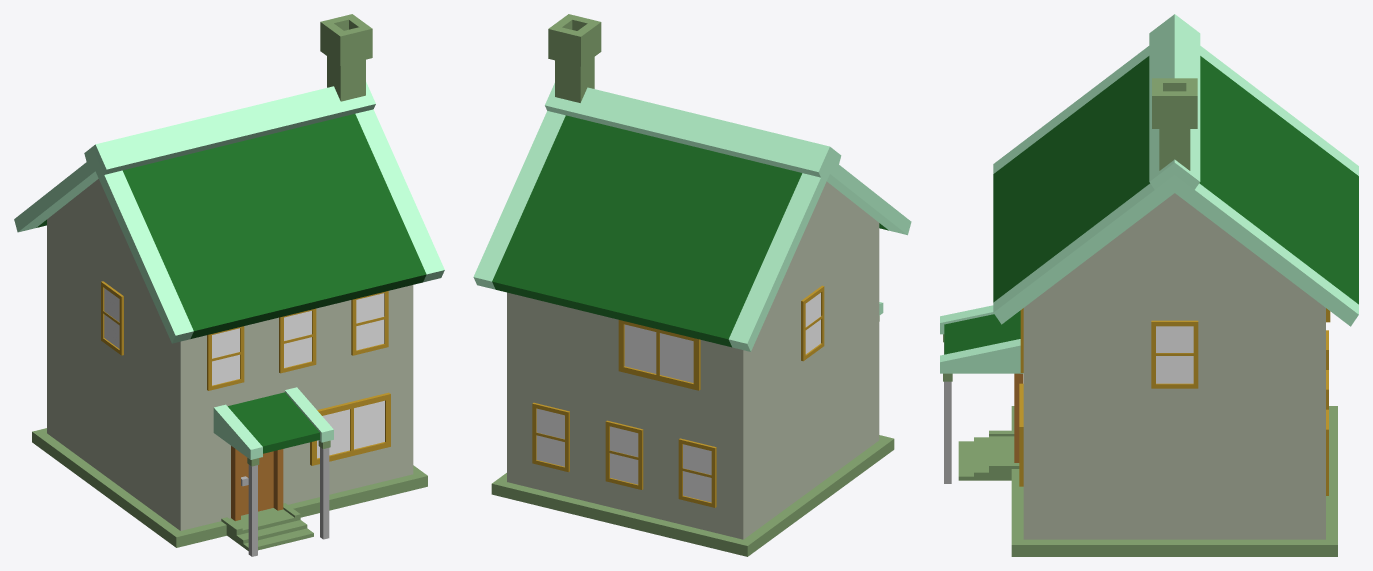
The model's file is Building_House_1.FBX.
3 renders of one model, left to right at view 1: azimuth 30°, elevation 25°; view 2: azimuth 150°, elevation 25°; view 3: azimuth 270°, elevation 25°, orthographic. The views are drawn at different scales.
Visible parts, largest first — view 1: Box001; view 2: Box001; view 3: Box001.
Part boxes in pixels (x1=…): Box001: x1=14, y1=14, x2=444, y2=556; Box001: x1=473, y1=14, x2=911, y2=556; Box001: x1=940, y1=14, x2=1358, y2=556.
Size of the model in its own units: 807 by 1176 by 960.
